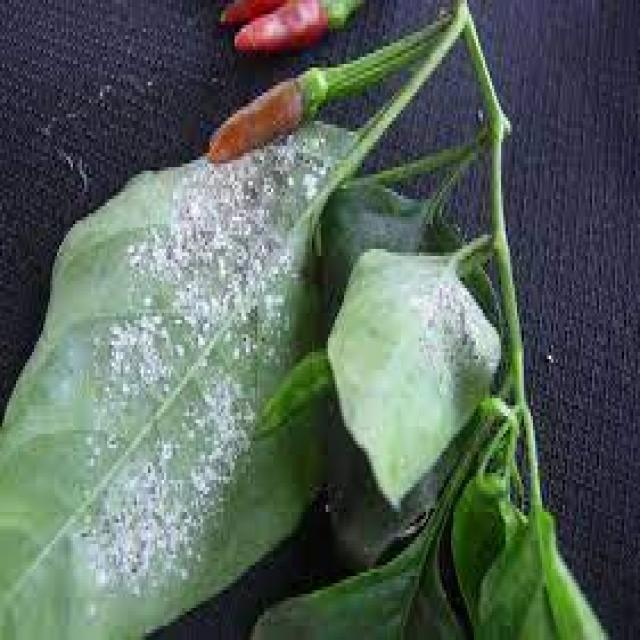Pestalotiopsis: (84, 145, 285, 561), (412, 270, 491, 416)
